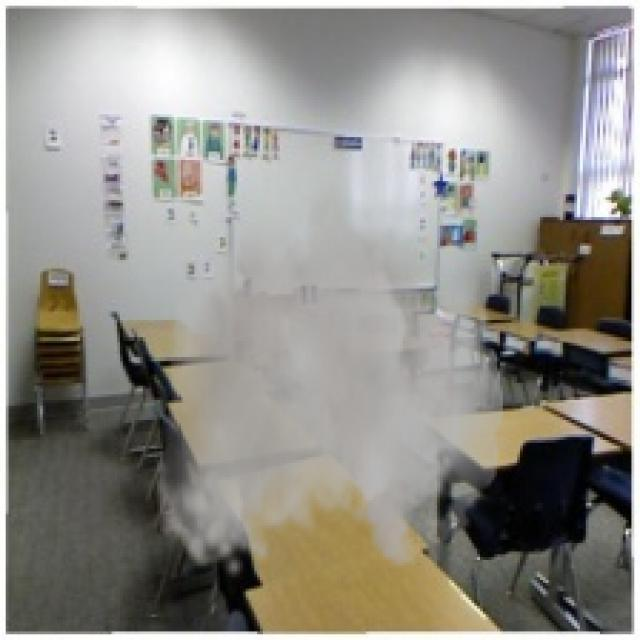Smoke: (154, 165, 503, 580)
